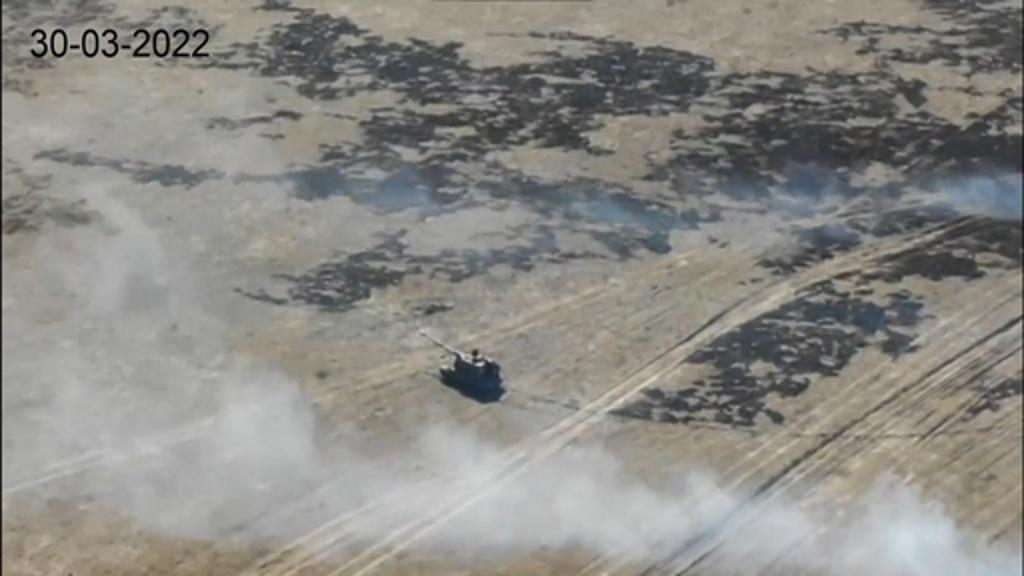ART: (412, 320, 514, 400)
